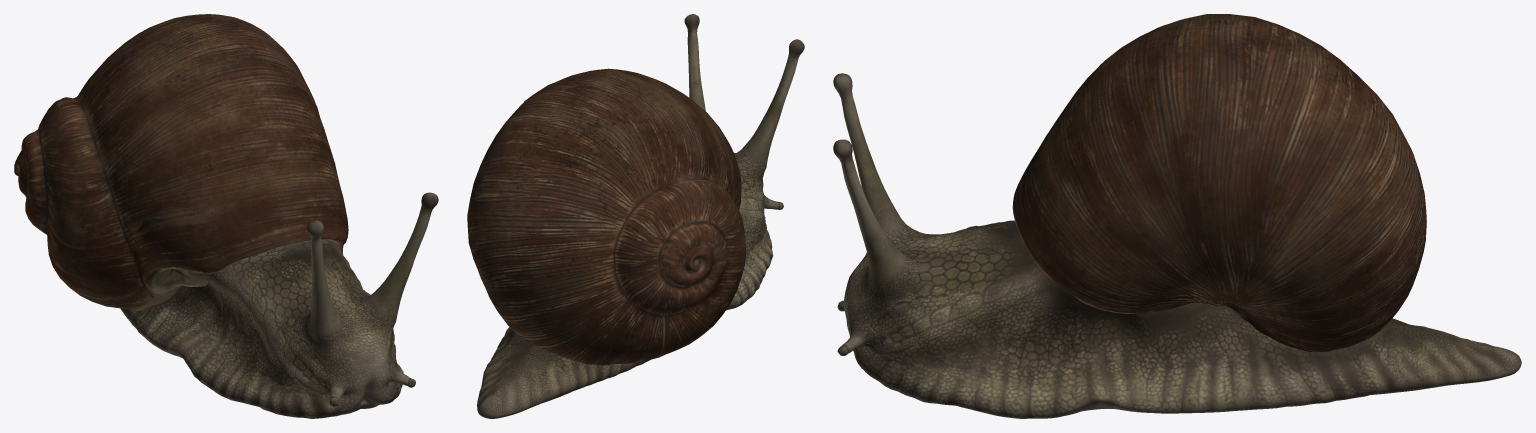
3 views of the same model, side by side, from view 1: azimuth 30°, elevation 25°; view 2: azimuth 150°, elevation 25°; view 3: azimuth 270°, elevation 25° (orthographic). The views are drawn at different scales.
Visible parts, largest first — view 1: node_id51_Material_72_0; view 2: node_id51_Material_72_0; view 3: node_id51_Material_72_0.
Boxes of the visible parts, x1,y1,x2,y2 form: node_id51_Material_72_0: (14, 14, 438, 418); node_id51_Material_72_0: (467, 14, 804, 418); node_id51_Material_72_0: (833, 14, 1521, 418).
Bounding box in the file's own units: 0.5771 × 0.6122 × 1.11.
1 material, 1 textured.
